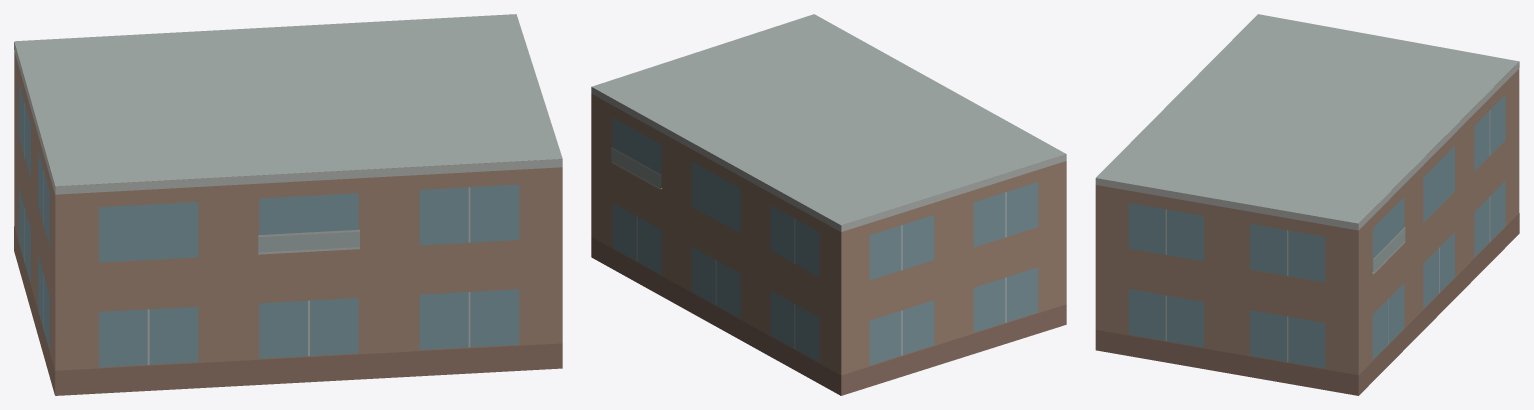
File: survey-upis-32567318.glb
The picture shows the model from 3 angles, left to right: view 1: azimuth 30°, elevation 25°; view 2: azimuth 150°, elevation 25°; view 3: azimuth 270°, elevation 25°; orthographic projection. The views are drawn at different scales.
Parts seen in each view (by area): view 1: survey-upis-32567318.tmp; view 2: survey-upis-32567318.tmp; view 3: survey-upis-32567318.tmp.
Part boxes in pixels (x1,y1,x2,y2): survey-upis-32567318.tmp: [14, 14, 562, 395]; survey-upis-32567318.tmp: [591, 14, 1066, 395]; survey-upis-32567318.tmp: [1095, 14, 1519, 395].
Size of the model in its own units: 15.93 by 6.1 by 13.61.
